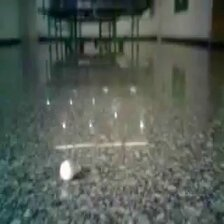w: (59, 159, 76, 180)
